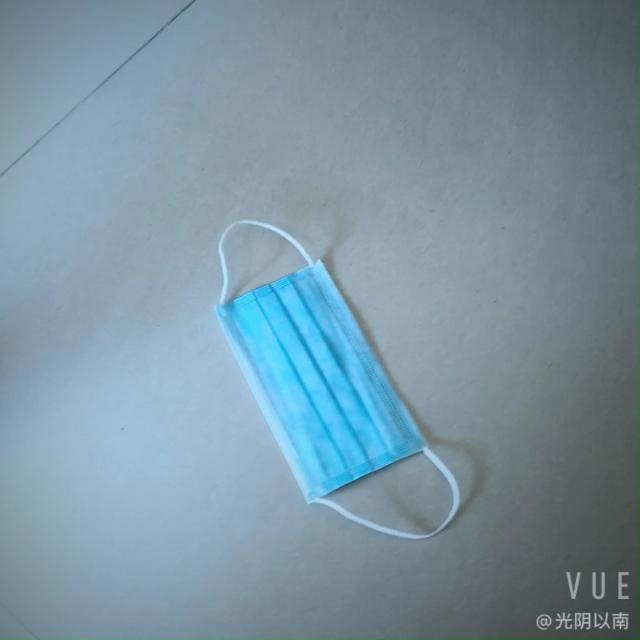non-organic waste: (206, 266, 431, 516)
